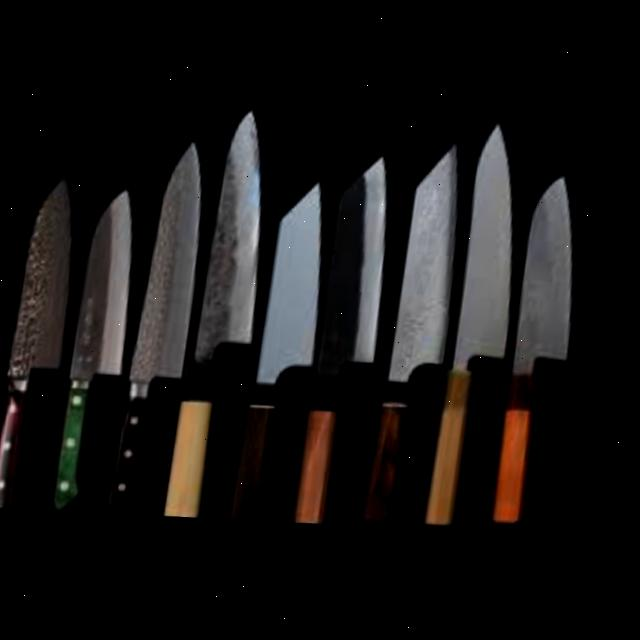Knife: (425, 121, 542, 537), (167, 106, 284, 522), (364, 139, 476, 533), (294, 165, 407, 529), (111, 138, 215, 519), (490, 174, 598, 535), (232, 174, 340, 526), (53, 183, 151, 515), (0, 171, 91, 512)
